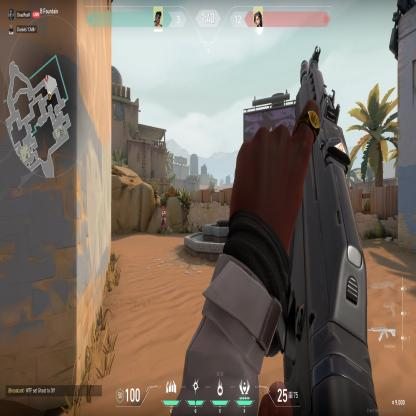enemy: (160, 205, 167, 235)
